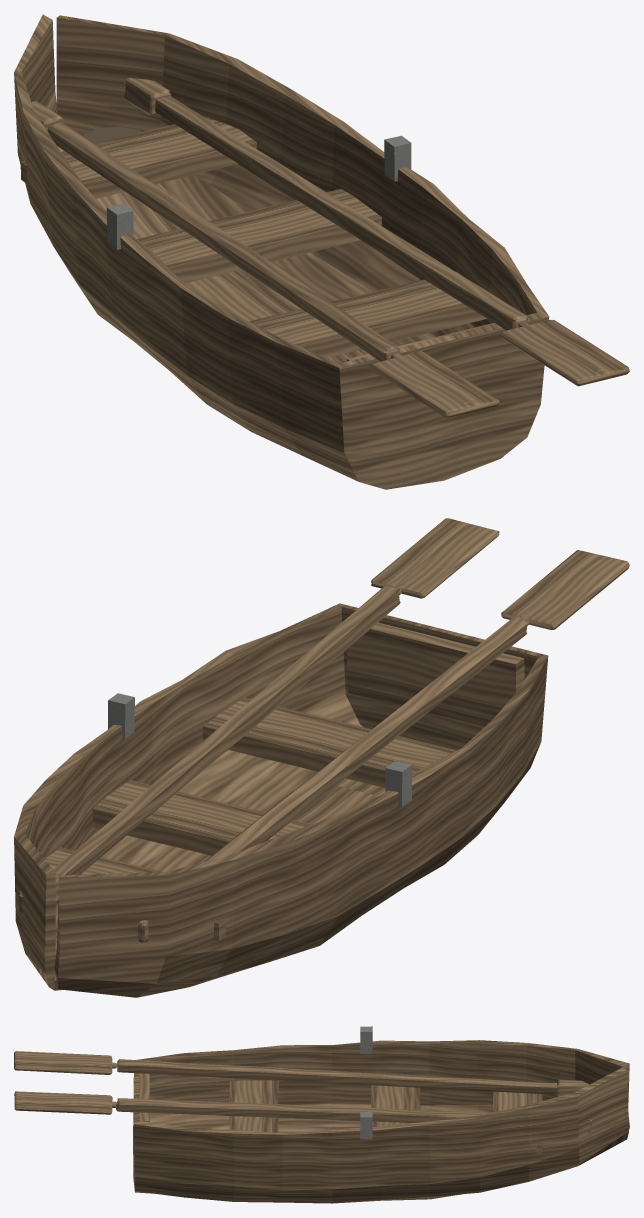
Rendered from rowboat.glb.
The picture shows the model from 3 angles, top to bottom: view 1: azimuth 30°, elevation 25°; view 2: azimuth 150°, elevation 25°; view 3: azimuth 270°, elevation 25°; orthographic projection. The views are drawn at different scales.
Visible parts, largest first — view 1: Rowboat; view 2: Rowboat; view 3: Rowboat.
Boxes of the visible parts, left/top/right/bottom form: Rowboat: left=14, top=14, right=629, bottom=489; Rowboat: left=14, top=518, right=629, bottom=997; Rowboat: left=14, top=1026, right=629, bottom=1203.
Bounding box in the file's own units: 1.23 × 0.7232 × 3.53.
3 materials, 2 textured.
